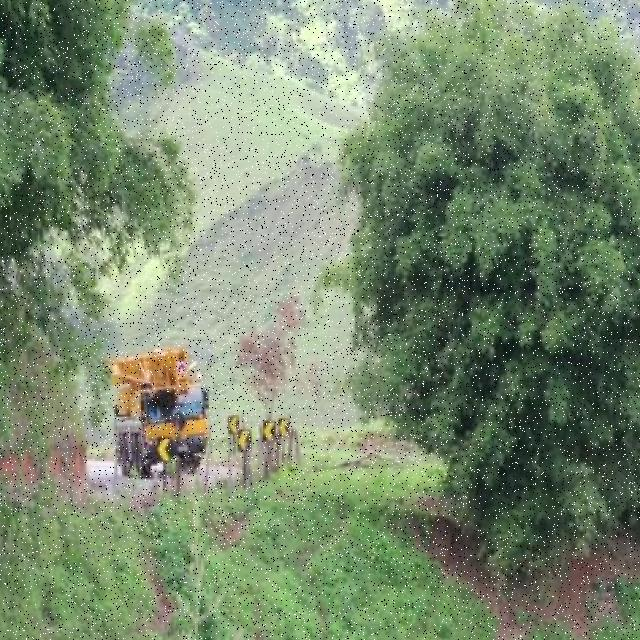Mobile Crane: (110, 351, 208, 476)
